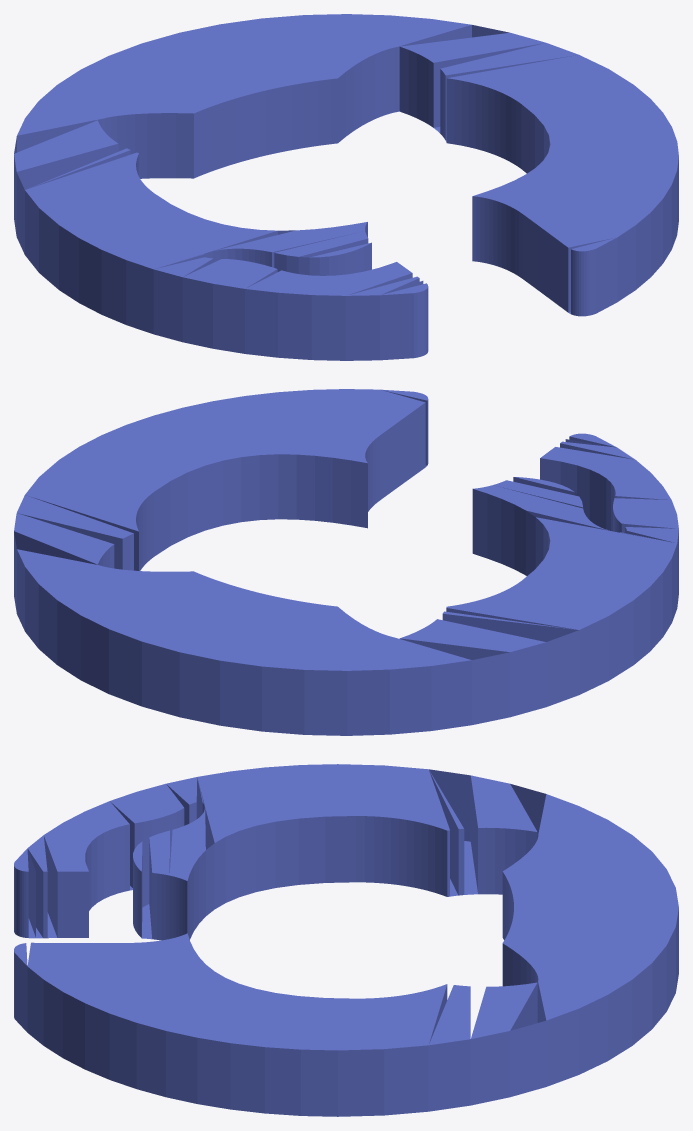
The model's file is github2ok.glb.
The picture shows the model from 3 angles, top to bottom: view 1: azimuth 30°, elevation 25°; view 2: azimuth 150°, elevation 25°; view 3: azimuth 270°, elevation 25°; orthographic projection. The views are drawn at different scales.
Parts seen in each view (by area): view 1: Curve; view 2: Curve; view 3: Curve.
Boxes of the visible parts, box(x1,y1,x2,y2) form: Curve: box(14, 14, 678, 360); Curve: box(14, 389, 678, 735); Curve: box(14, 764, 678, 1116).
Size of the model in its own units: 0.1347 by 0.0146 by 0.1322.
